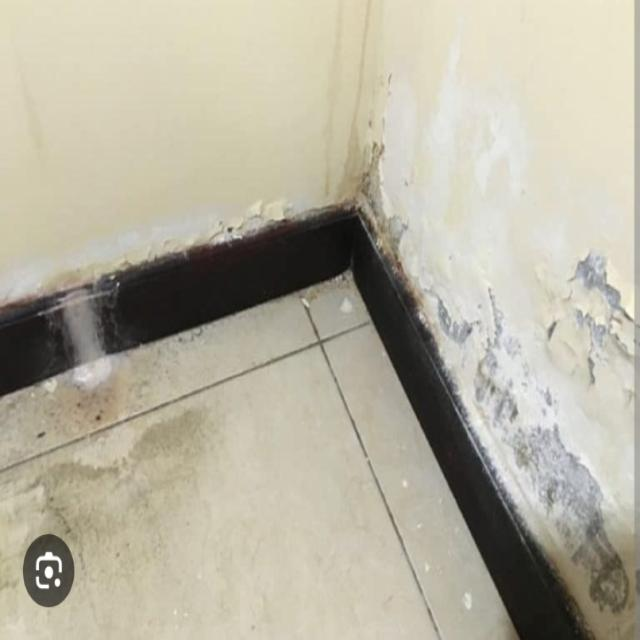damaged_wall: (419, 129, 639, 639)
wall_leaking: (0, 183, 312, 314), (325, 2, 427, 296)
